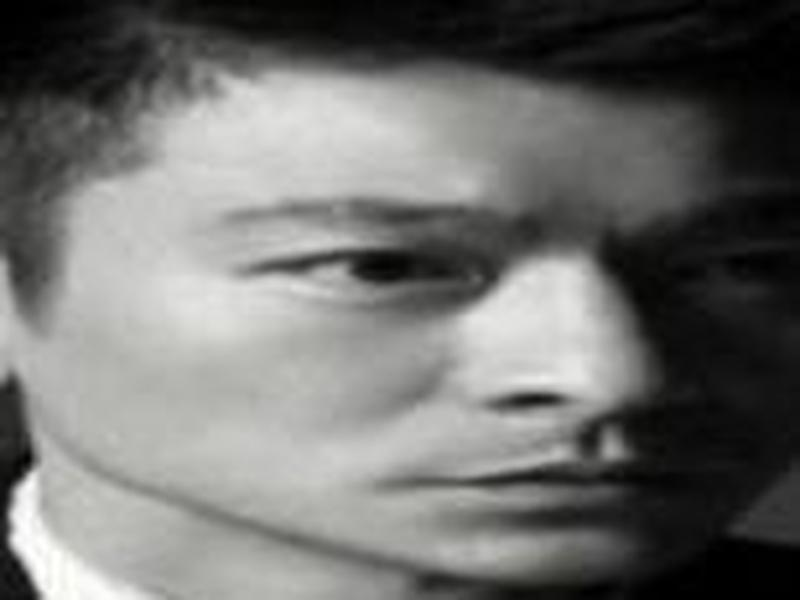without_mask: (14, 48, 787, 582)
